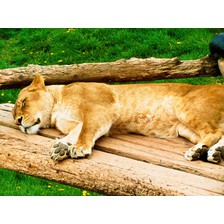lion: (11, 69, 224, 165)
